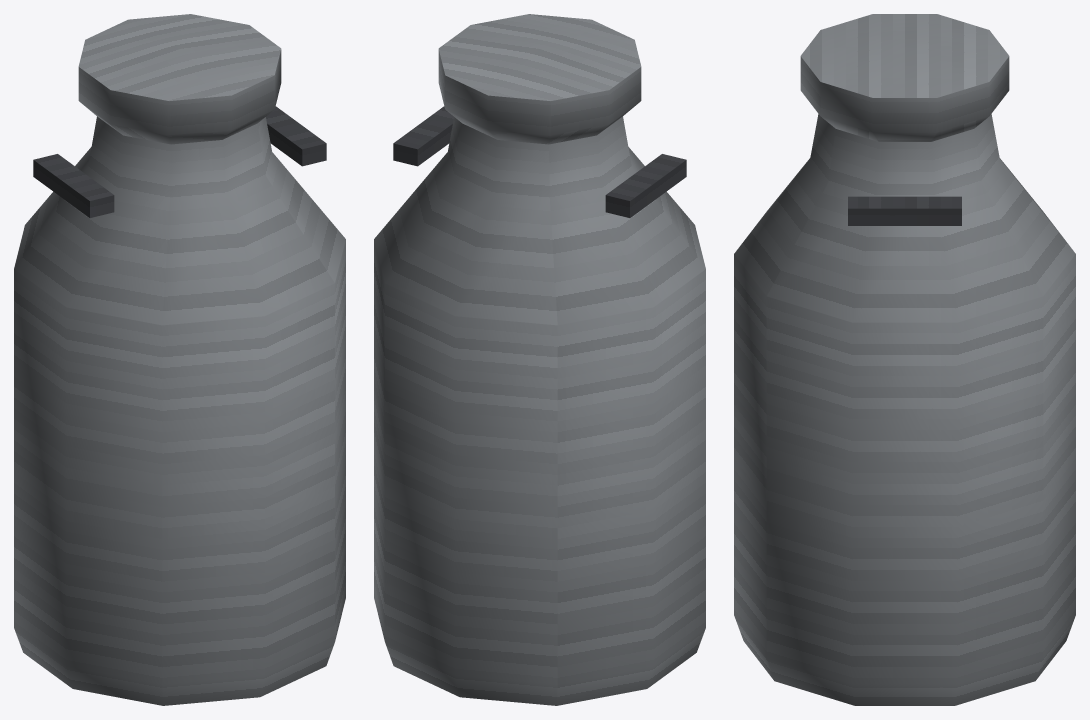
Rendered from latao_leite.glb.
3 views of the same model, side by side, from view 1: azimuth 30°, elevation 25°; view 2: azimuth 150°, elevation 25°; view 3: azimuth 270°, elevation 25° (orthographic).
Visible parts, largest first — view 1: Inteiro; view 2: Inteiro; view 3: Inteiro.
Boxes of the visible parts, <box> form: Inteiro: <box>14,14,345,705</box>; Inteiro: <box>374,14,705,705</box>; Inteiro: <box>734,14,1075,705</box>.
Size of the model in its own units: 0.3424 by 0.69 by 0.36.
Materials: 1 (1 with a texture image).
